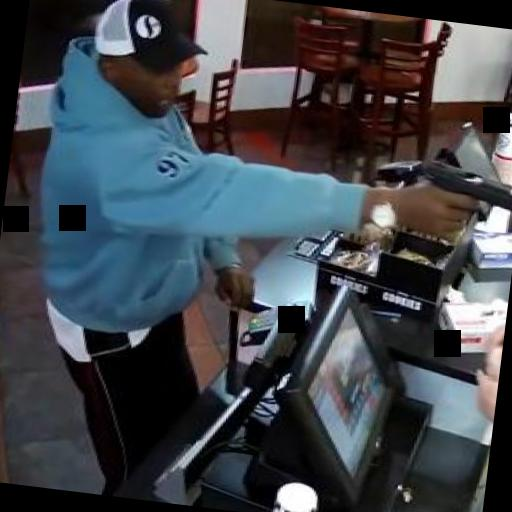Handgun: (406, 157, 512, 245)
